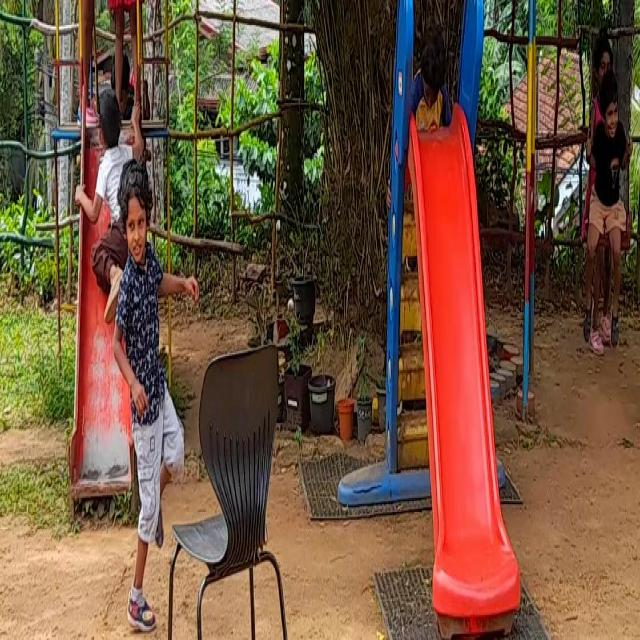child: (114, 162, 178, 614), (584, 16, 624, 368)
